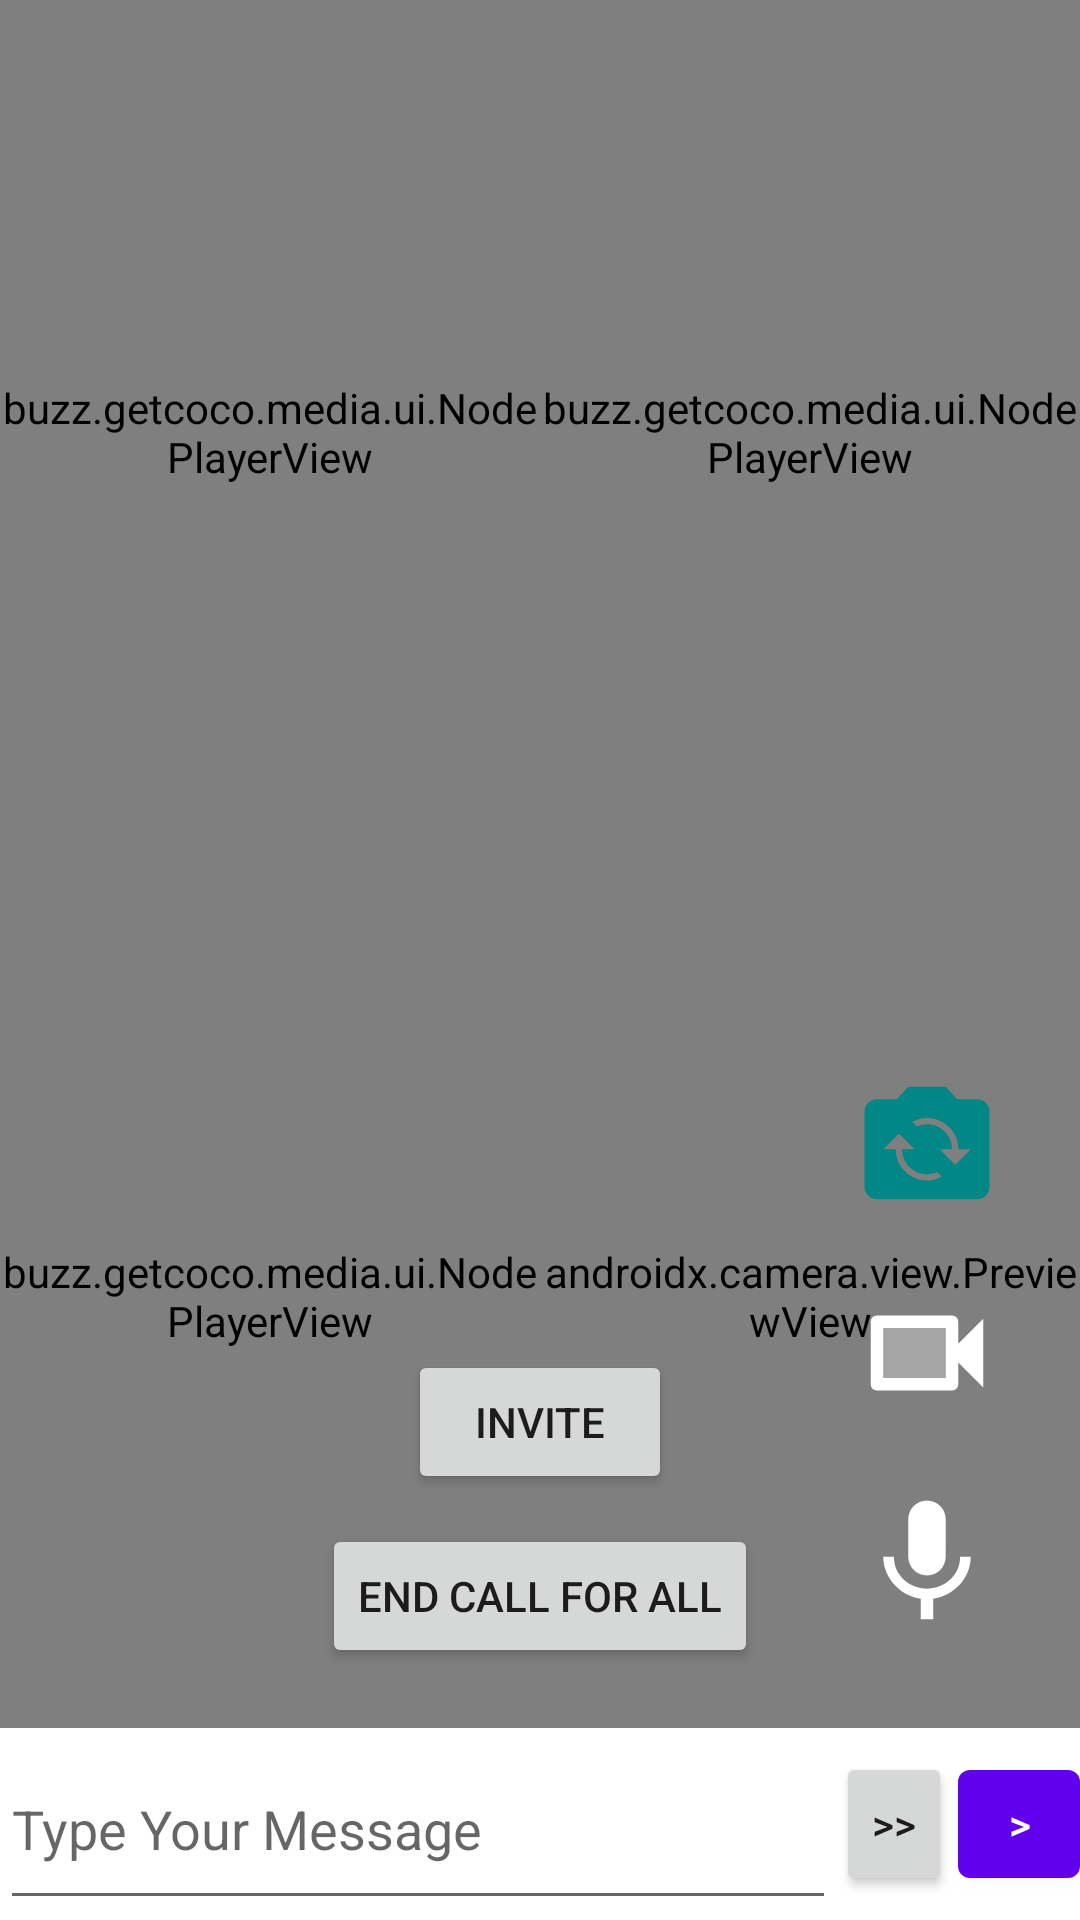

Icons on this 1080 × 1920 Android screen, each with its box as region(x1, y1, x2, y2):
flip cam: region(864, 1086, 990, 1200)
mic: region(883, 1500, 971, 1620)
